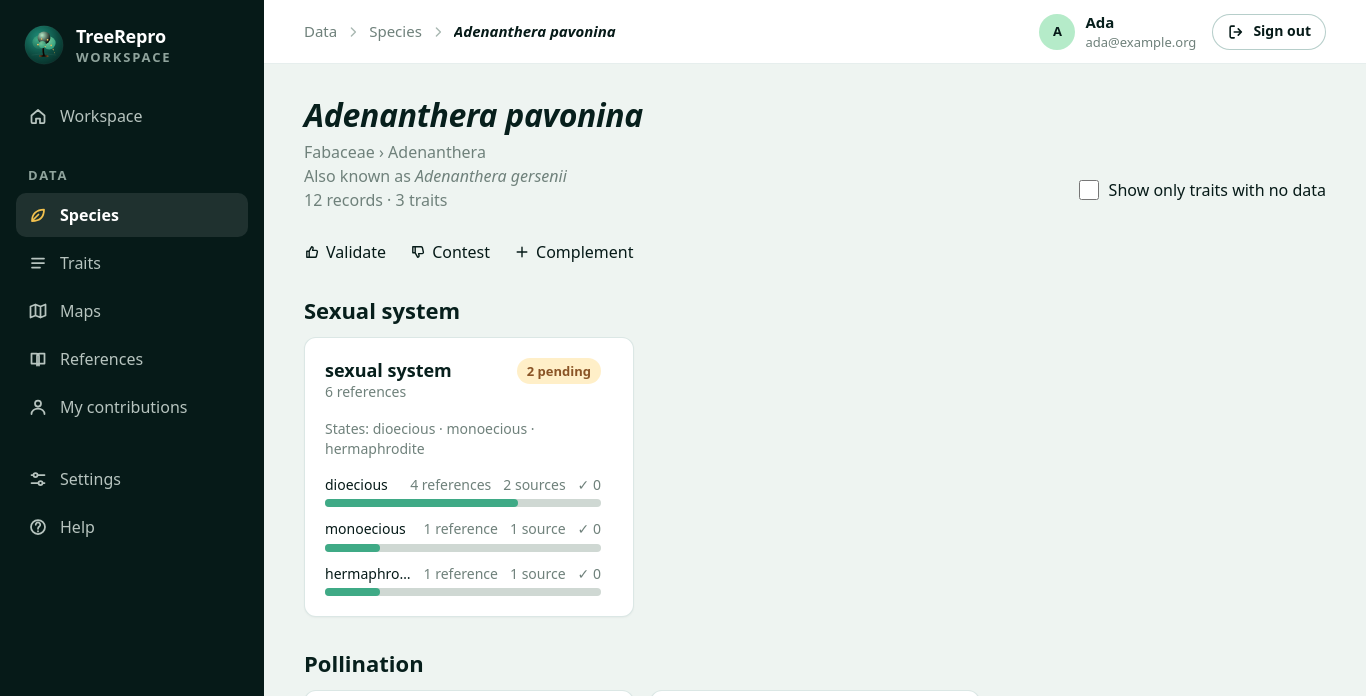
Scenario: RFC-63 R8, R9 SpeciesPage trait panel and record drawer › keeps showing the record after a background refetch fails
This screenshot has width=1366, height=696.
Check: the heading "Adenanthera pavonina" is shown, box x1=304 y1=96 x2=643 y2=134
Click the button "sexual system": coordinates (388, 370) x1=325 y1=358 x2=601 y2=459
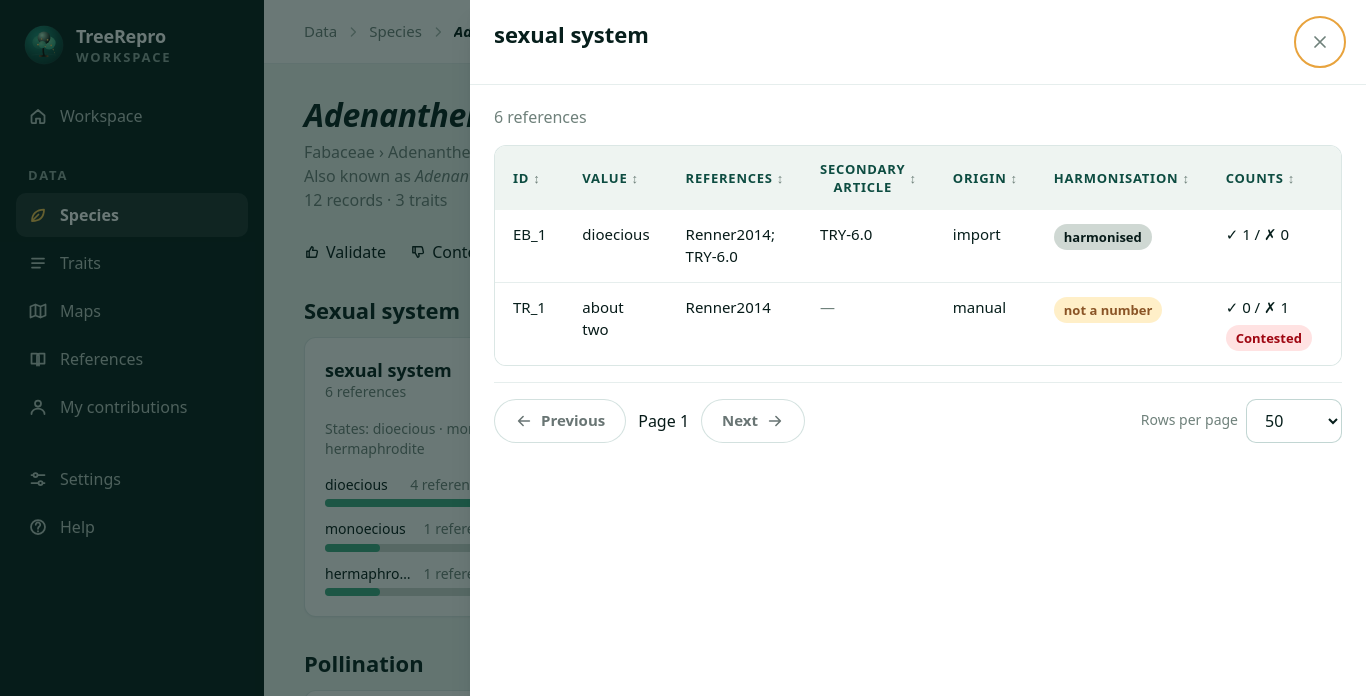
Click the button "dioecious": coordinates (616, 235) x1=582 y1=224 x2=650 y2=246
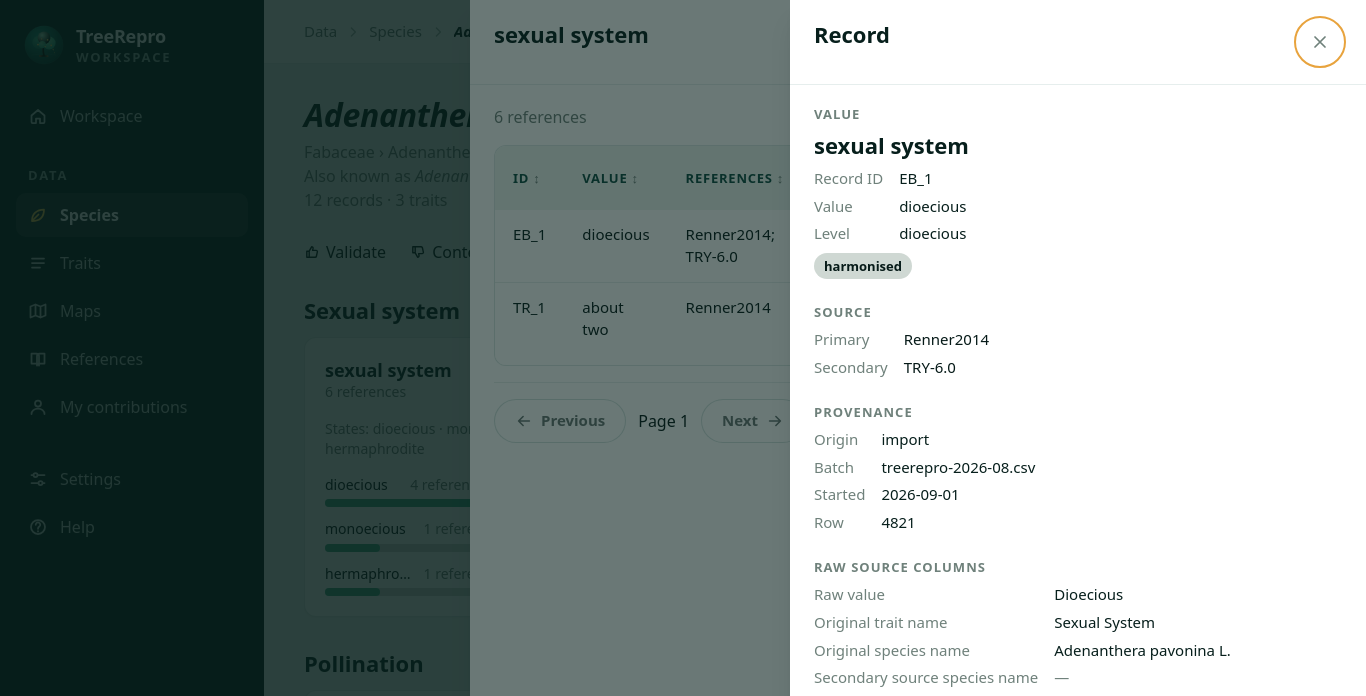
Check: the text "Dioecious" is shown, box x1=1054 y1=584 x2=1123 y2=604
